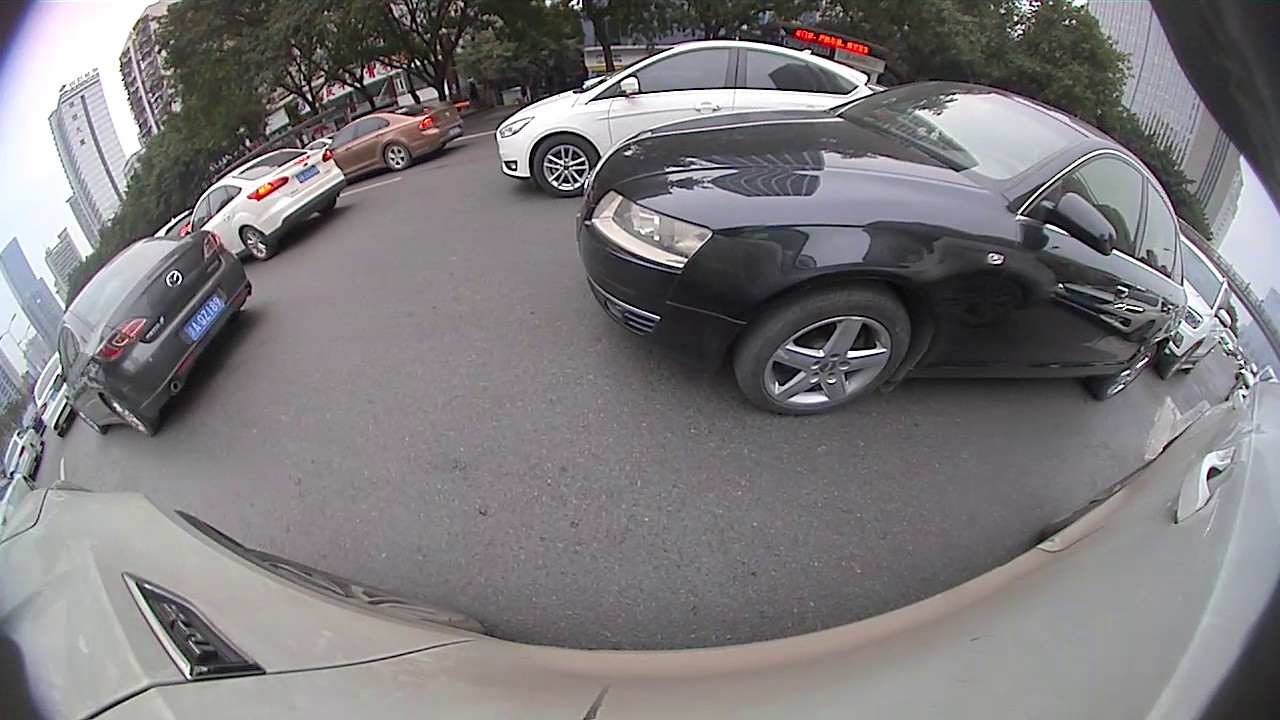car: (576, 75, 1190, 416), (494, 39, 882, 201), (57, 229, 253, 441), (188, 146, 345, 260), (1160, 227, 1230, 383), (329, 106, 465, 179), (32, 351, 80, 434), (3, 424, 45, 481)
front: (739, 289, 913, 417), (532, 131, 599, 197), (1165, 342, 1201, 382), (71, 406, 106, 435)
rear: (1098, 344, 1157, 402), (104, 392, 153, 436), (243, 226, 272, 262), (384, 142, 410, 171)
